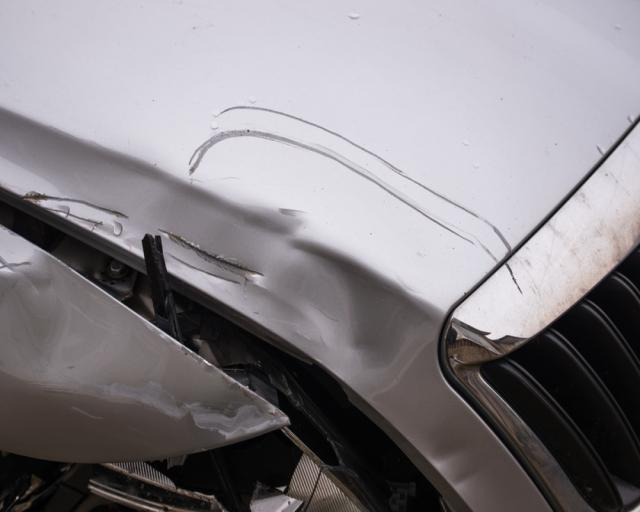dent: (161, 182, 444, 400), (0, 252, 136, 381), (430, 441, 478, 500)
scratch: (184, 104, 514, 266), (94, 380, 288, 439), (21, 189, 132, 231)
